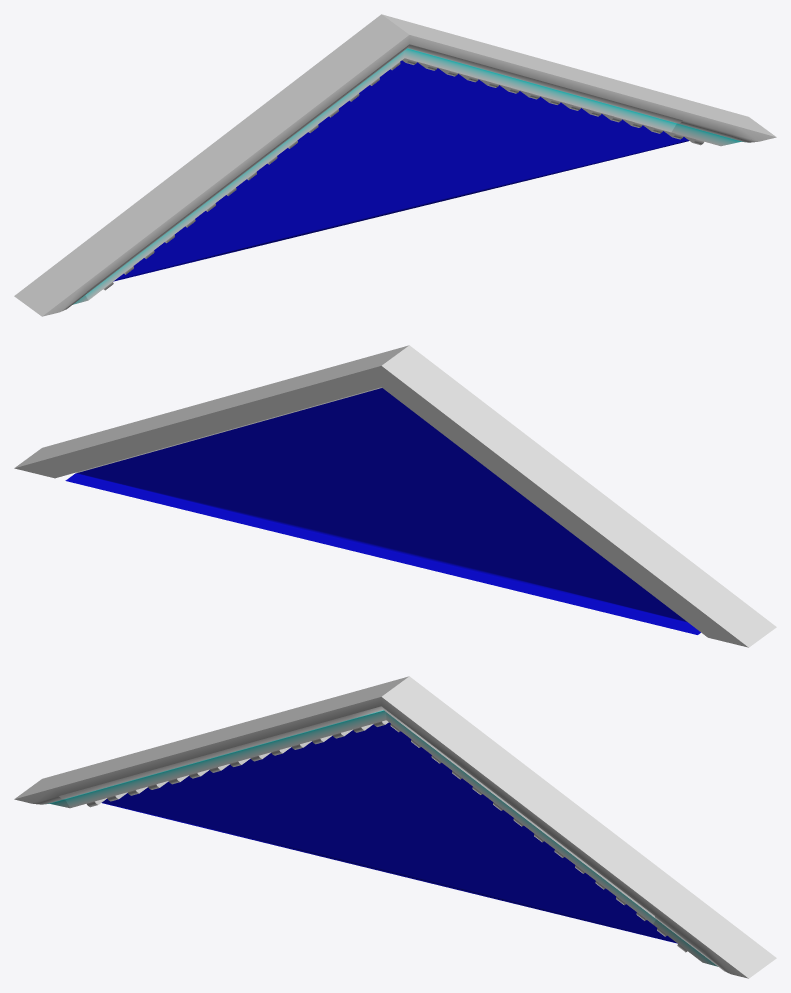
Rendered from SM_RoofEnd14m.fbx.
3 views of the same model, one above another, from view 1: azimuth 30°, elevation 25°; view 2: azimuth 150°, elevation 25°; view 3: azimuth 330°, elevation 25° (orthographic).
Visible parts, largest first — view 1: SM_RoofEnd14m; view 2: SM_RoofEnd14m; view 3: SM_RoofEnd14m.
Part boxes in pixels (left/top/right/bottom): SM_RoofEnd14m: left=14, top=14, right=776, bottom=316; SM_RoofEnd14m: left=14, top=345, right=776, bottom=647; SM_RoofEnd14m: left=14, top=676, right=776, bottom=978.
Size of the model in its own units: 1604 by 401 by 106.
